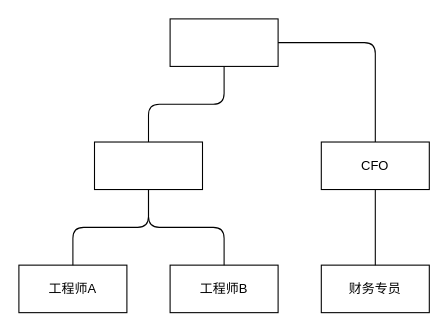
Some shapes in this 448 by 332 pixel diagram are drawn without their labels. Here are the shapes that lost their labels. From the top down, the centre of each, then its label:
At (x=223, y=42): "CEO".
At (x=147, y=165): "CTO".
